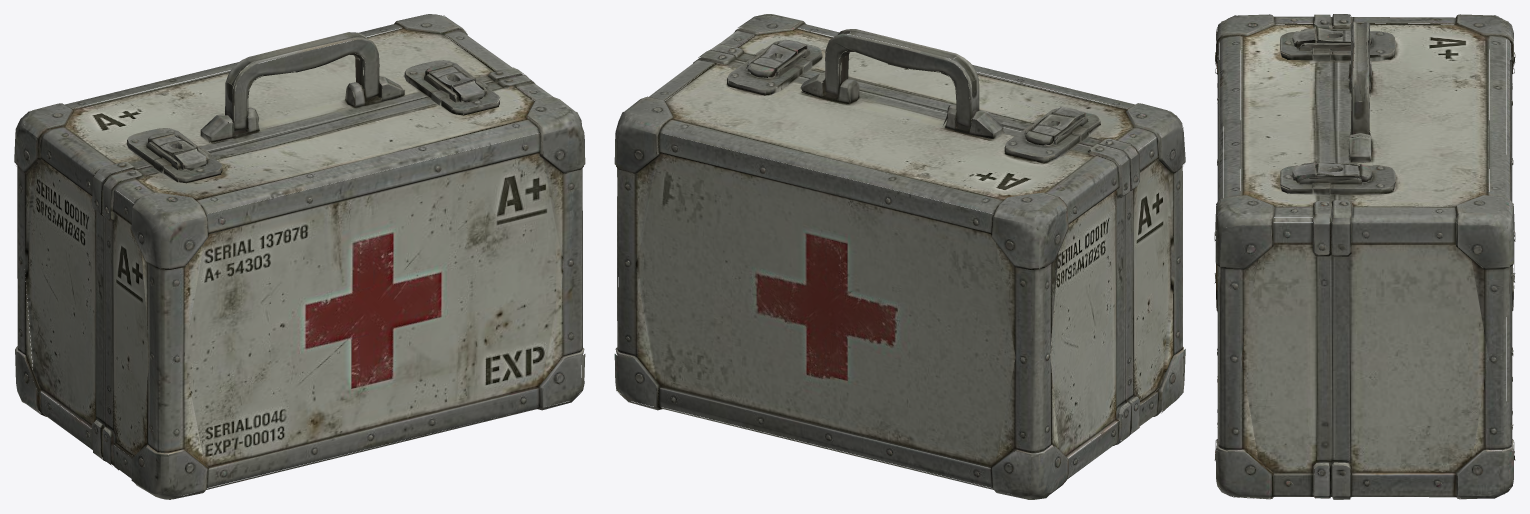
The model's file is kit_medico.glb.
The picture shows the model from 3 angles, left to right: view 1: azimuth 30°, elevation 25°; view 2: azimuth 150°, elevation 25°; view 3: azimuth 270°, elevation 25°; orthographic projection.
Parts seen in each view (by area): view 1: Prop_kit_medico; view 2: Prop_kit_medico; view 3: Prop_kit_medico.
Part boxes in pixels (bbox=[...]): Prop_kit_medico: bbox=[14, 14, 585, 499]; Prop_kit_medico: bbox=[614, 14, 1185, 499]; Prop_kit_medico: bbox=[1214, 14, 1515, 499].
Size of the model in its own units: 0.4201 by 0.34 by 0.256.
1 material, 1 textured.
